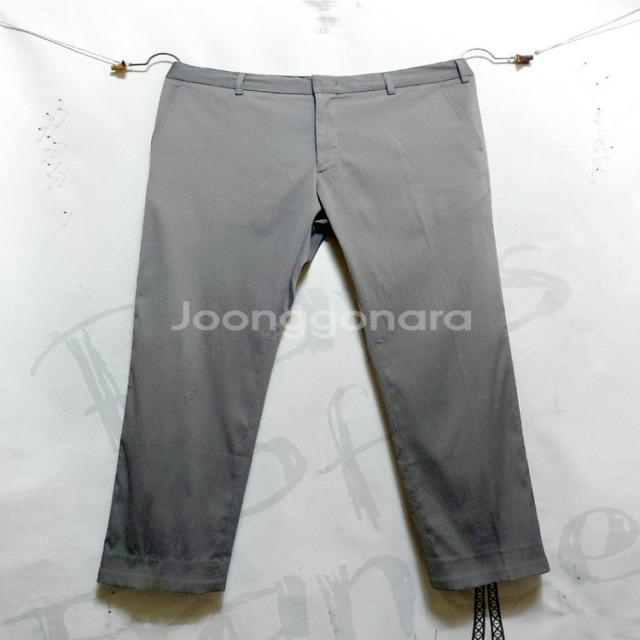long-pants: (88, 59, 552, 600)
